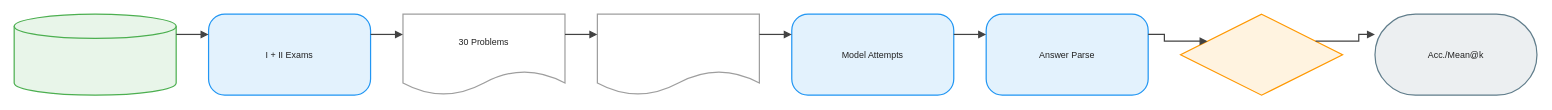
This 1552x110 diagram has some shape labels left out. Each missing label, with the centre of its shape:
"000-999 Keys" goes at (x=678, y=54).
"2024 AIME" goes at (x=94, y=54).
"Exact Match" goes at (x=1261, y=54).
